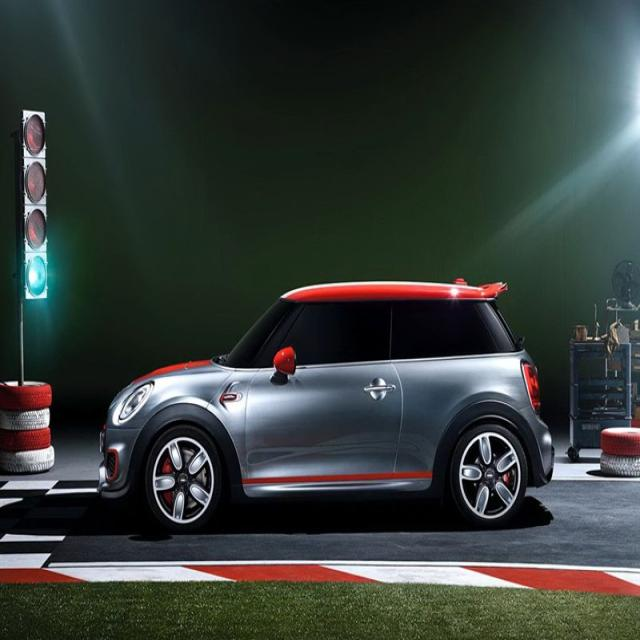back_left_side_light: (518, 357, 542, 414)
front_glass: (227, 298, 291, 368)
front_left_side_door: (244, 298, 405, 488)
front_left_side_light: (117, 380, 153, 422)
front_left_side_mirror: (274, 345, 298, 385)
wheel: (144, 426, 222, 532), (451, 422, 528, 527)
